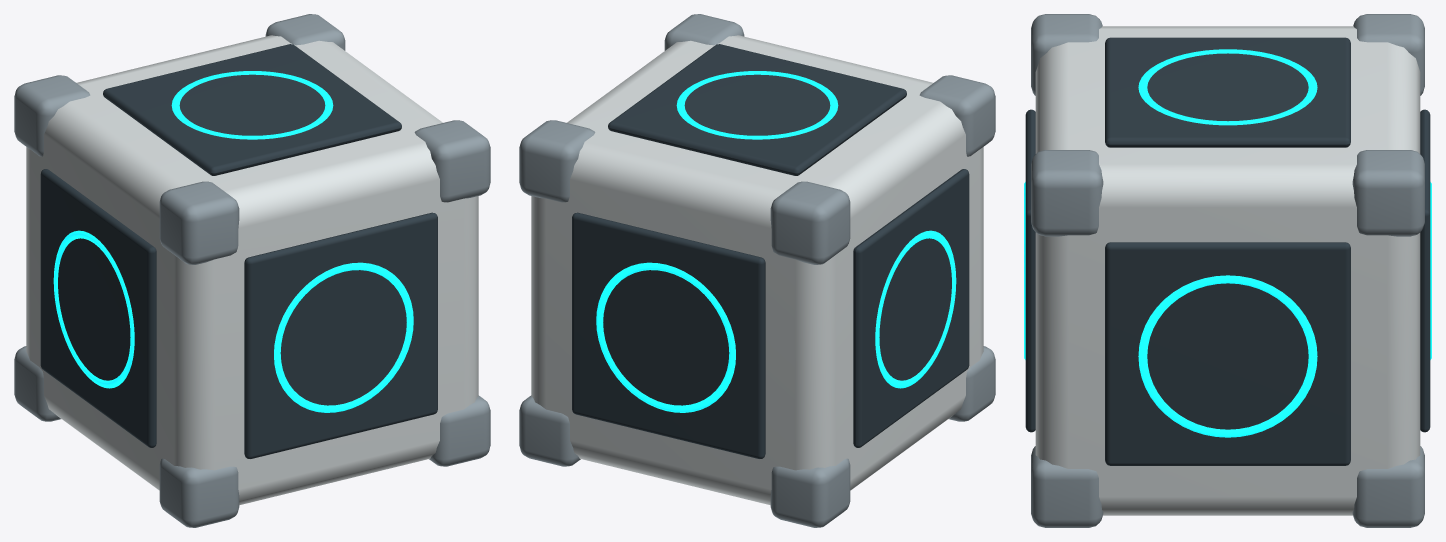
3 renders of one model, left to right at view 1: azimuth 30°, elevation 25°; view 2: azimuth 150°, elevation 25°; view 3: azimuth 270°, elevation 25°, orthographic. The views are drawn at different scales.
Parts seen in each view (by area): view 1: Cube chamfered body, Cube face plate 1_-1, Cube face plate 0_-1, Cube face plate 2_1, Cube corner -1_-1_1, Cube corner -1_-1_-1, Cube corner 1_-1_1, Cube cyan ring 1_-1, Cube corner -1_1_1, Cube corner 1_-1_-1, Cube cyan ring 0_-1, Cube cyan ring 2_1 (+2 smaller); view 2: Cube chamfered body, Cube face plate 1_1, Cube face plate 0_-1, Cube face plate 2_1, Cube corner -1_1_1, Cube corner -1_1_-1, Cube corner 1_1_1, Cube cyan ring 1_1, Cube corner -1_-1_1, Cube corner 1_1_-1, Cube cyan ring 0_-1, Cube cyan ring 2_1 (+2 smaller); view 3: Cube chamfered body, Cube face plate 0_1, Cube face plate 2_1, Cube corner 1_1_1, Cube corner 1_-1_1, Cube cyan ring 0_1, Cube corner 1_1_-1, Cube corner 1_-1_-1, Cube face plate 1_1, Cube face plate 1_-1, Cube corner -1_1_1, Cube corner -1_-1_1 (+1 smaller).
Boxes of the visible parts, box(x1,y1,x2,y2) form: Cube chamfered body: box(26, 35, 478, 505); Cube face plate 1_-1: box(244, 212, 437, 458); Cube face plate 0_-1: box(40, 169, 156, 447); Cube face plate 2_1: box(103, 44, 401, 175); Cube corner -1_-1_1: box(159, 181, 239, 264); Cube corner -1_-1_-1: box(159, 458, 239, 527); Cube corner 1_-1_1: box(414, 120, 490, 202); Cube cyan ring 1_-1: box(274, 262, 413, 412); Cube corner -1_1_1: box(14, 75, 90, 156); Cube corner 1_-1_-1: box(429, 395, 490, 466); Cube cyan ring 0_-1: box(53, 230, 134, 388); Cube cyan ring 2_1: box(171, 71, 333, 139); Cube chamfered body: box(531, 35, 983, 505); Cube face plate 1_1: box(572, 212, 765, 458); Cube face plate 0_-1: box(853, 169, 969, 447); Cube face plate 2_1: box(608, 44, 906, 175); Cube corner -1_1_1: box(770, 181, 850, 264); Cube corner -1_1_-1: box(770, 458, 850, 527); Cube corner 1_1_1: box(519, 120, 595, 202); Cube cyan ring 1_1: box(596, 262, 735, 412); Cube corner -1_-1_1: box(919, 75, 995, 156); Cube corner 1_1_-1: box(519, 395, 580, 466); Cube cyan ring 0_-1: box(875, 230, 956, 388); Cube cyan ring 2_1: box(676, 71, 838, 139); Cube chamfered body: box(1035, 26, 1420, 515); Cube face plate 0_1: box(1105, 242, 1350, 465); Cube face plate 2_1: box(1105, 37, 1350, 147); Cube corner 1_1_1: box(1352, 150, 1424, 236); Cube corner 1_-1_1: box(1031, 150, 1103, 236); Cube cyan ring 0_1: box(1138, 275, 1317, 437); Cube corner 1_1_-1: box(1352, 446, 1424, 527); Cube corner 1_-1_-1: box(1031, 446, 1103, 527); Cube face plate 1_1: box(1420, 109, 1430, 432); Cube face plate 1_-1: box(1025, 109, 1035, 432); Cube corner -1_1_1: box(1353, 14, 1424, 95); Cube corner -1_-1_1: box(1031, 14, 1102, 95).
Bounding box in the file's own units: 0.6468 × 0.6468 × 0.6468.
